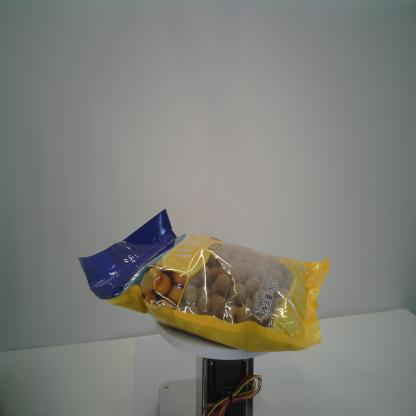Dried Food: (74, 207, 332, 356)
